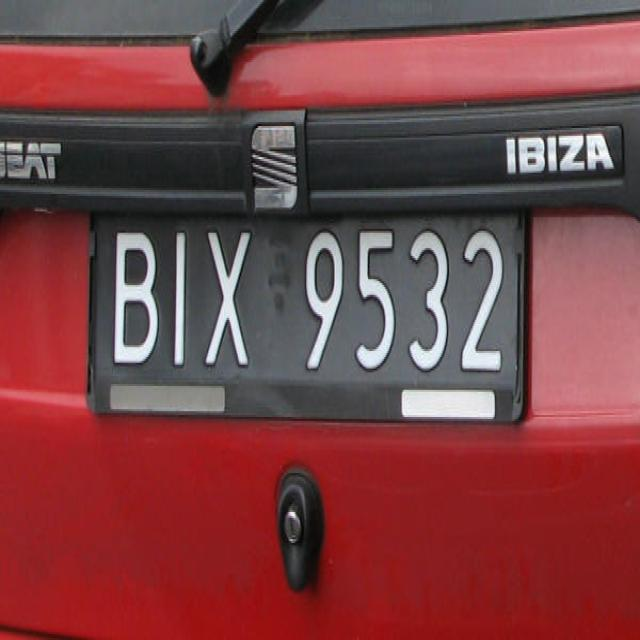pl_license_plate: (90, 217, 518, 390)
